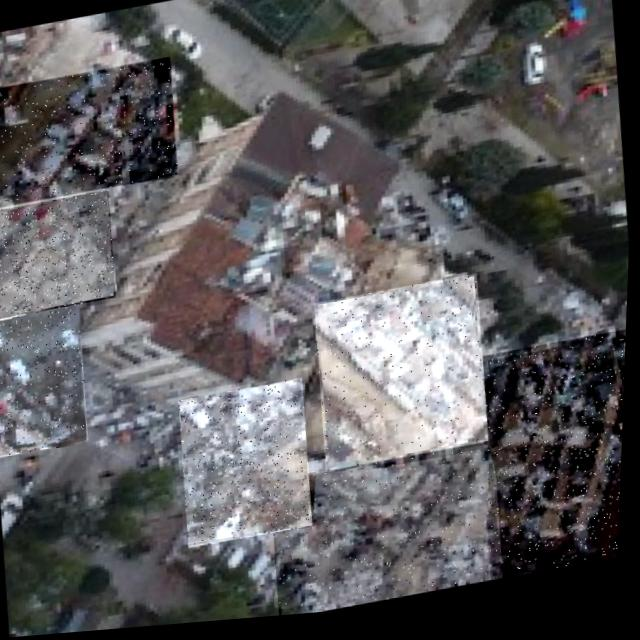Rubble: (268, 450, 502, 622), (475, 339, 629, 589), (310, 280, 496, 478), (0, 58, 181, 209), (176, 382, 320, 553), (0, 190, 120, 320), (0, 303, 94, 459)
